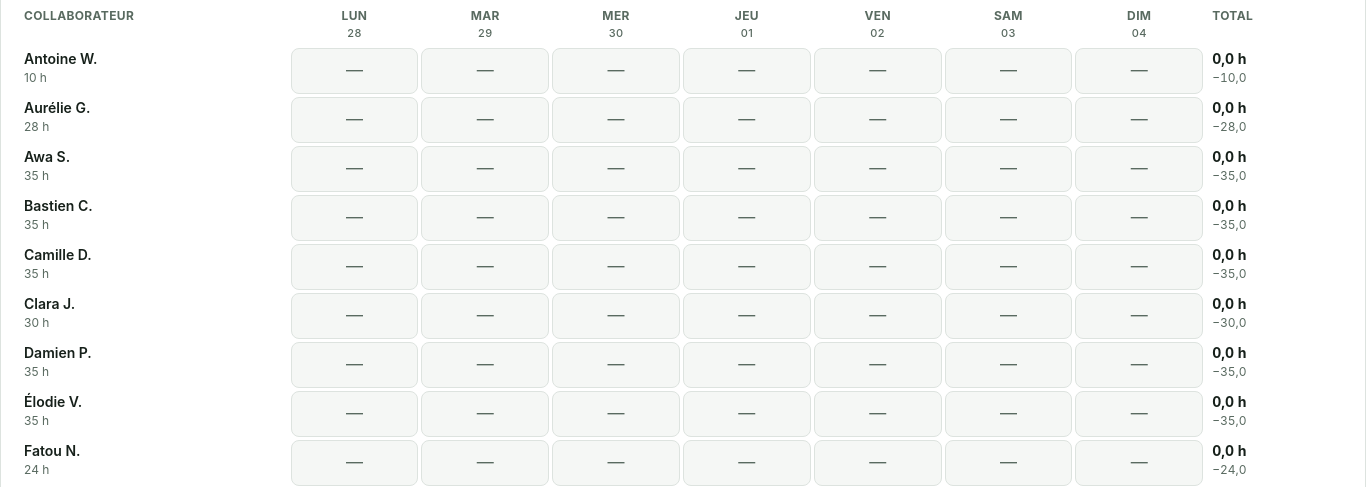
Test: contenu du dossier à présenter › explique pourquoi un rayon peut dépasser le besoin et rester découvert
(page scrolled)
Click the button named "Camille D., lundi": (354, 267) [291,244,418,290]
(page scrolled)
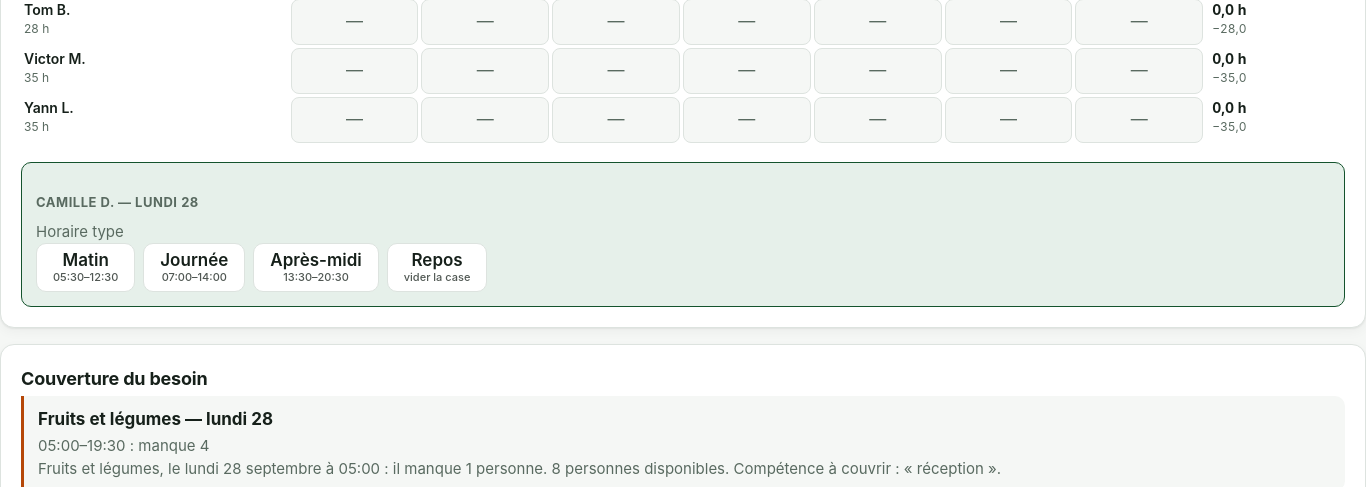
Click the button "Matin 05:30–12:30": (86, 267) [36,243,135,292]
(page scrolled)
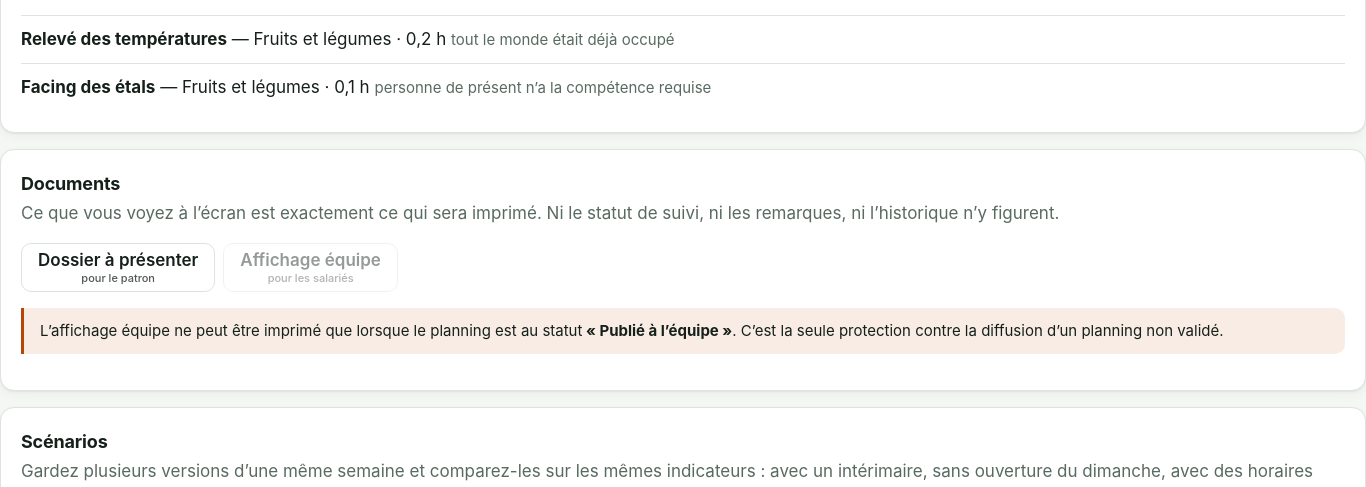
Click the button "Dossier à présenter pour le patron": (118, 268) [21,243,215,292]
(page scrolled)
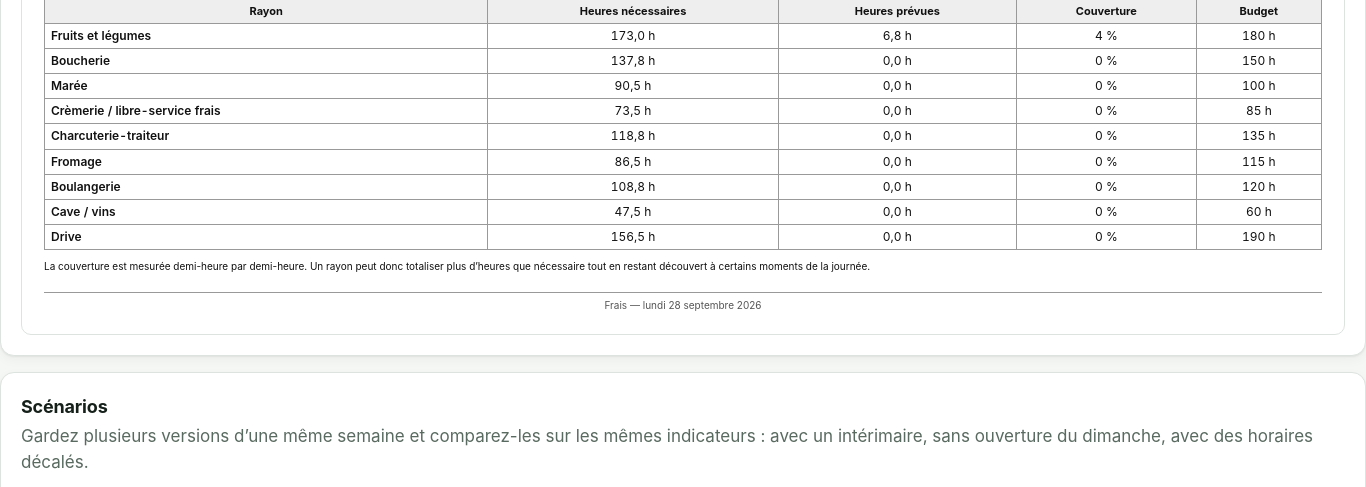
Expected: the text "mesurée demi-heure par demi-heure" is shown, [44,260,870,272]
